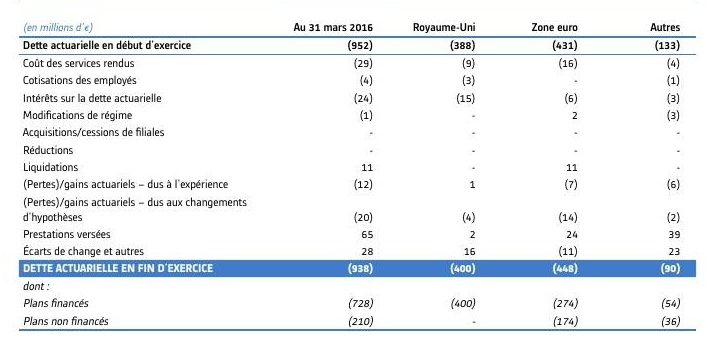table: (0, 0, 719, 348)
